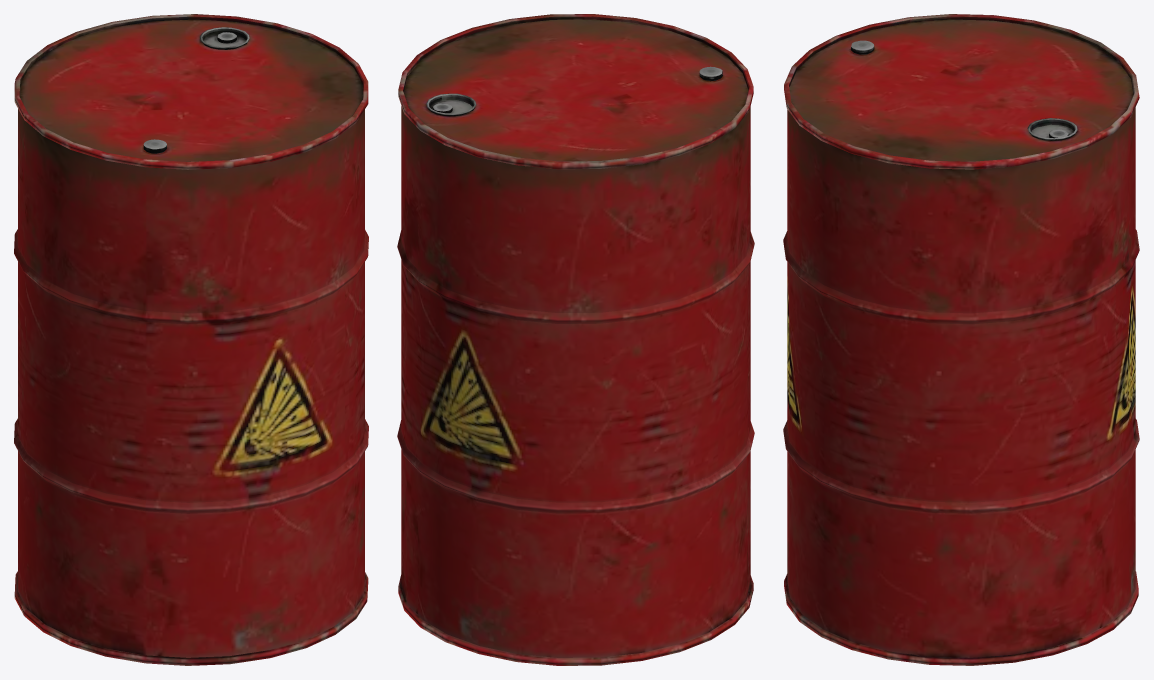
Rendered from barrel_01.glb.
3 renders of one model, left to right at view 1: azimuth 30°, elevation 25°; view 2: azimuth 150°, elevation 25°; view 3: azimuth 270°, elevation 25°, orthographic.
Visible parts, largest first — view 1: Barrel_01; view 2: Barrel_01; view 3: Barrel_01.
Part boxes in pixels (x1,y1,x2,y2): Barrel_01: [14, 14, 368, 665]; Barrel_01: [397, 14, 754, 665]; Barrel_01: [783, 14, 1139, 665].
Size of the model in its own units: 0.5629 by 0.88 by 0.5629.
Materials: 1 (1 with a texture image).
